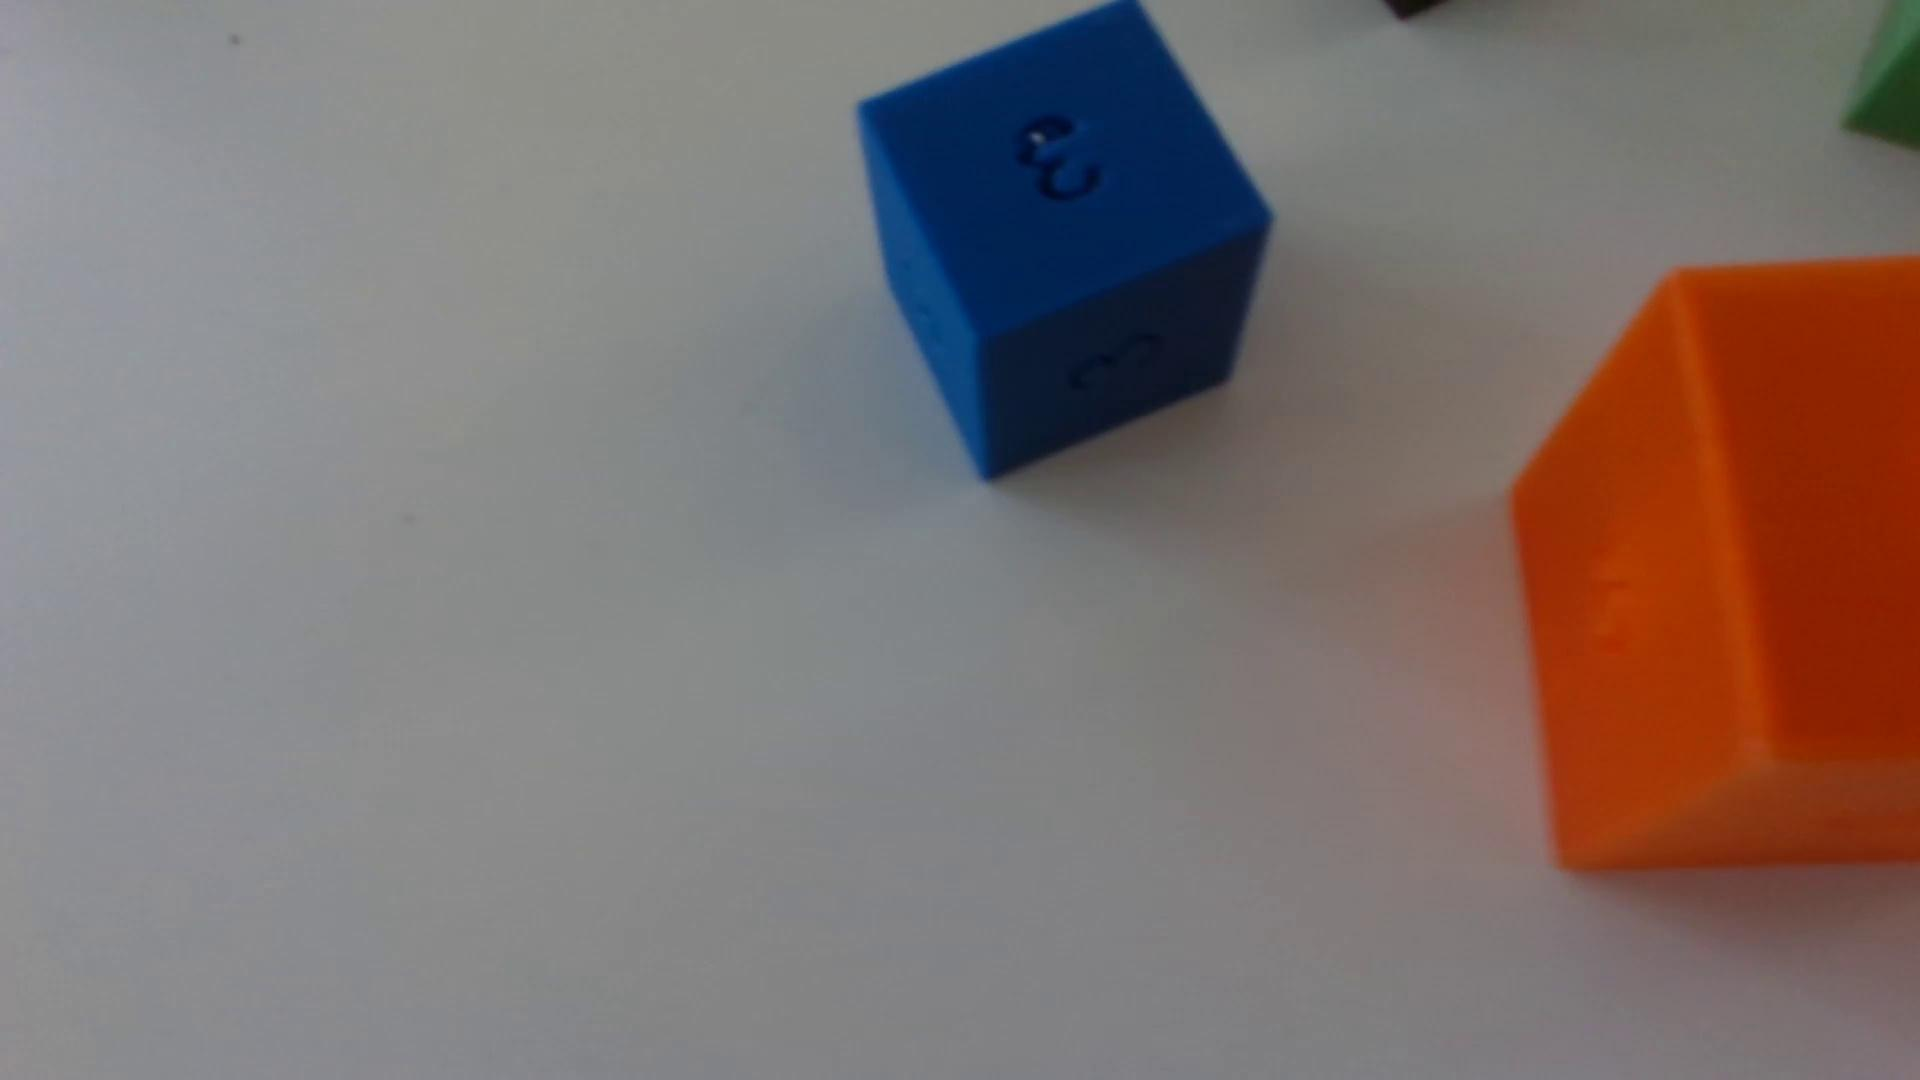black: (1382, 0, 1443, 20)
blue: (857, 0, 1273, 481)
green: (1842, 0, 1920, 152)
orange: (1511, 258, 1920, 872)
